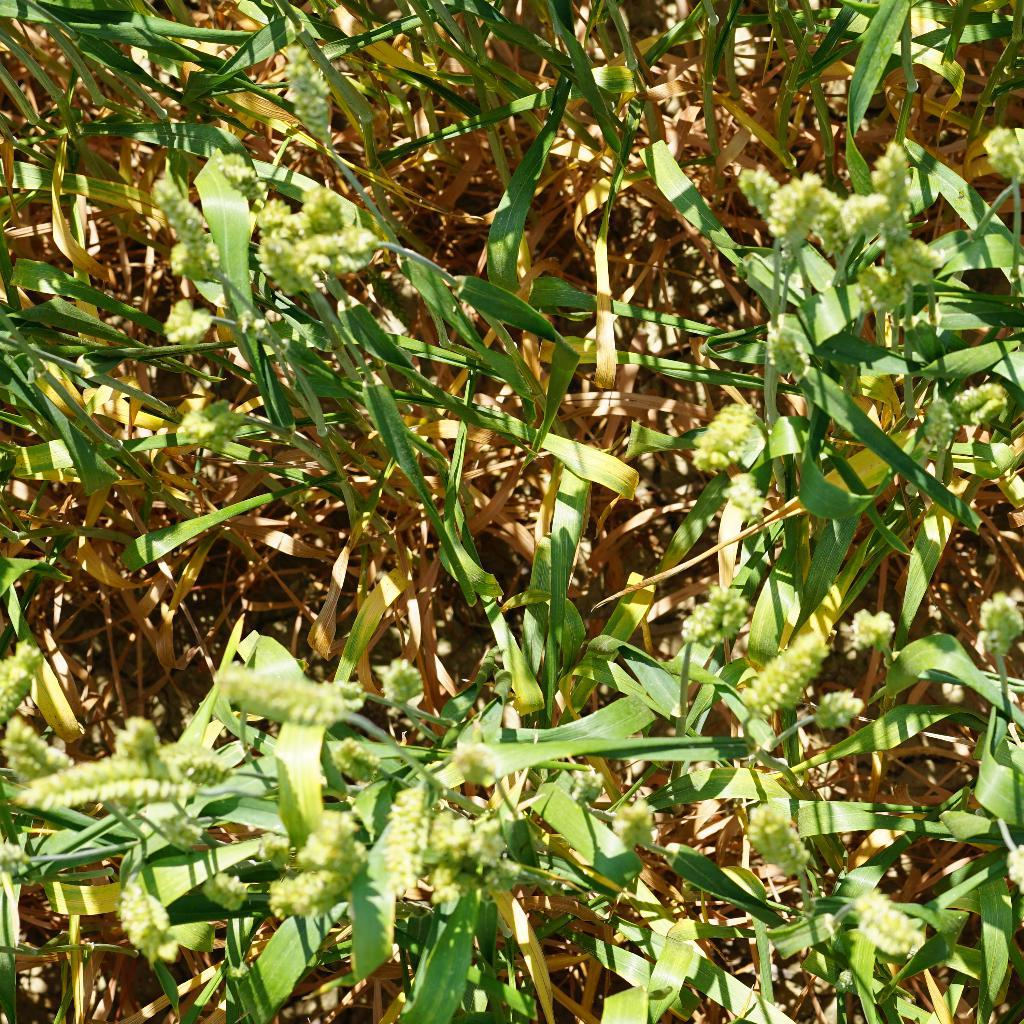0-0: (724, 616, 830, 725), (3, 766, 216, 818), (212, 659, 361, 733), (661, 567, 754, 657), (843, 877, 929, 967), (269, 43, 342, 146), (728, 164, 815, 246), (681, 389, 755, 484), (101, 876, 183, 960), (732, 806, 817, 874), (849, 139, 931, 208), (0, 619, 56, 717), (260, 870, 367, 920), (963, 582, 1024, 668), (291, 221, 378, 278), (0, 714, 89, 769), (290, 808, 367, 871), (144, 174, 210, 247), (176, 746, 256, 806), (114, 709, 171, 793), (709, 463, 787, 524), (169, 396, 250, 453), (837, 598, 906, 663), (881, 232, 948, 295), (803, 680, 871, 742), (765, 167, 823, 239), (414, 799, 466, 878), (938, 372, 1019, 422), (858, 260, 920, 324), (822, 193, 892, 249), (373, 657, 437, 716), (602, 784, 660, 849), (152, 806, 227, 856), (153, 293, 218, 350), (901, 391, 965, 448), (249, 236, 311, 294), (326, 733, 384, 795), (208, 152, 272, 208), (295, 183, 359, 239), (152, 235, 217, 290), (447, 737, 516, 787), (410, 864, 478, 914), (975, 119, 1024, 186), (246, 195, 310, 245), (293, 679, 376, 717), (768, 320, 817, 378), (474, 818, 516, 884), (250, 828, 305, 878), (556, 762, 613, 808), (194, 869, 250, 912)
